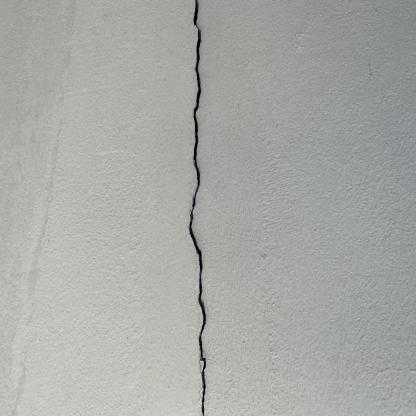crack: (188, 0, 207, 416)
